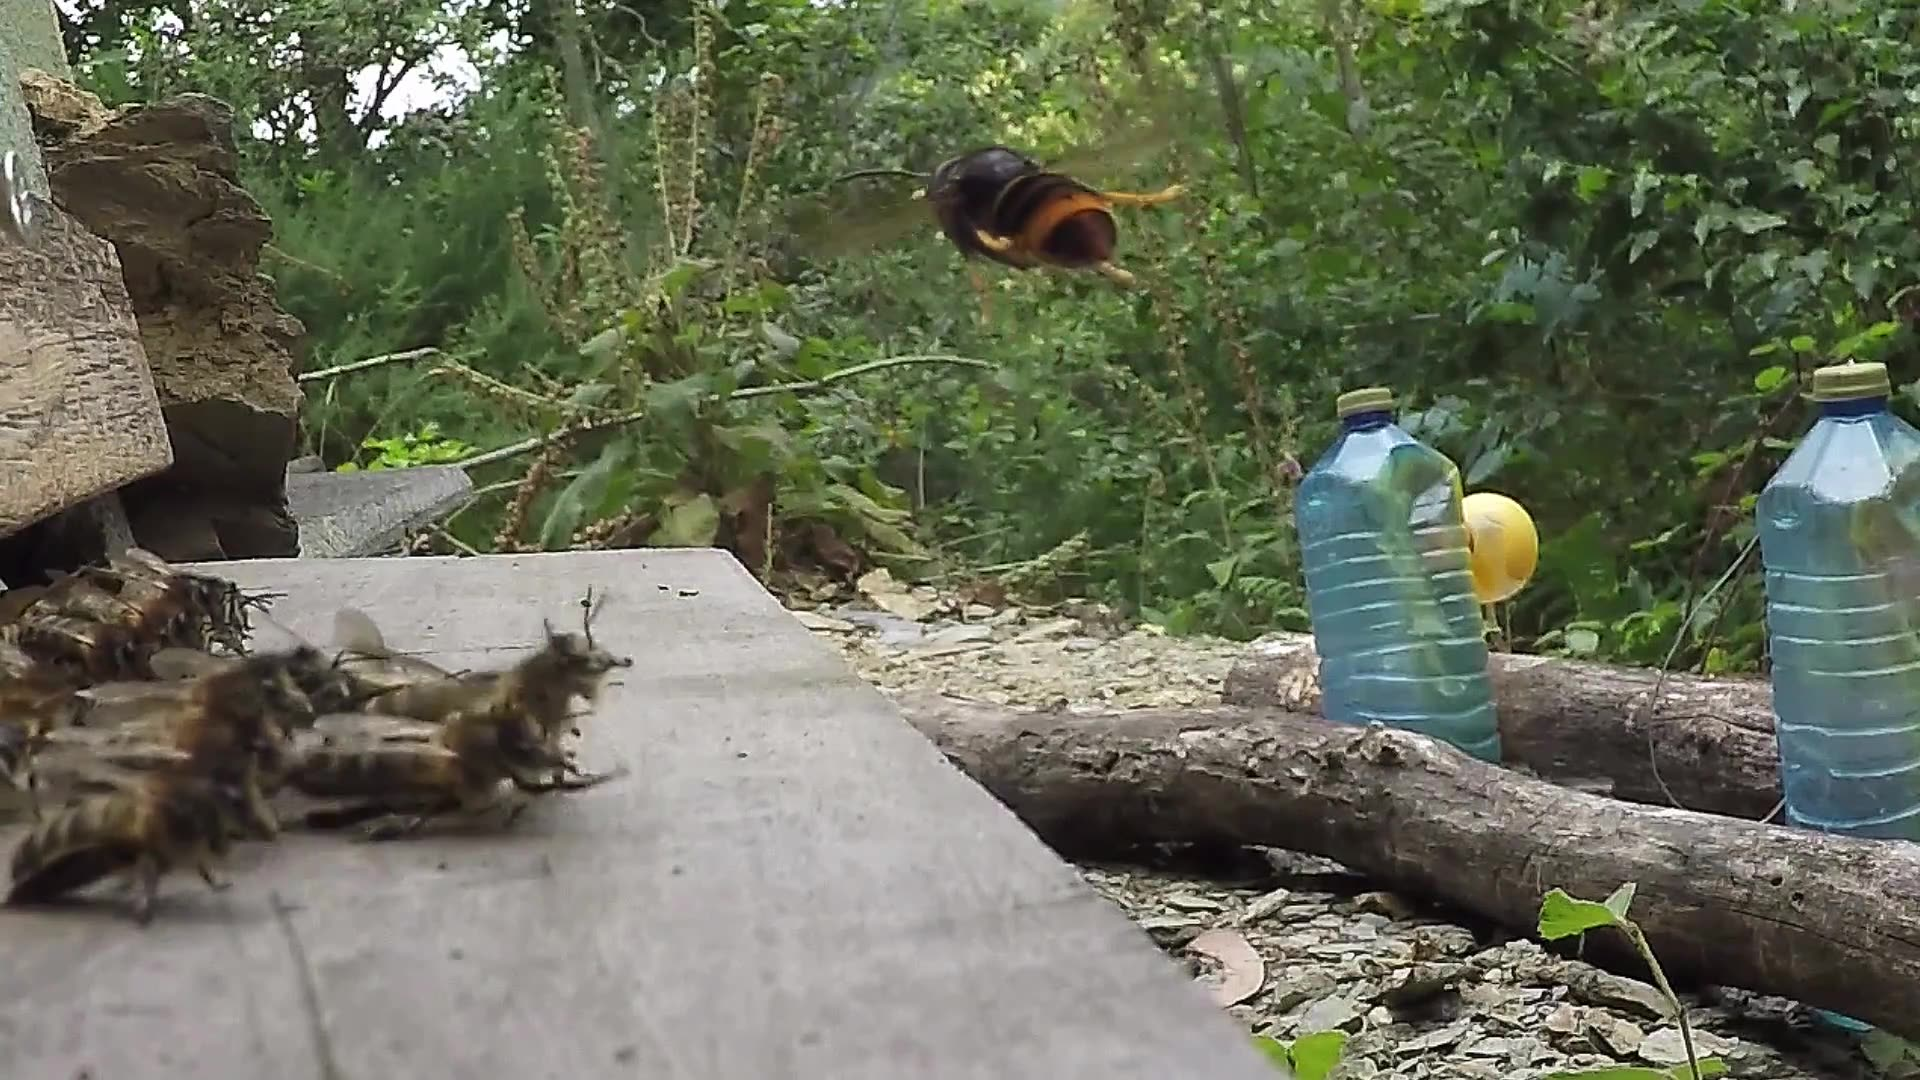bee: (313, 615, 632, 843), (1, 671, 328, 889), (1, 556, 277, 691)
hornet: (901, 129, 1147, 266)
